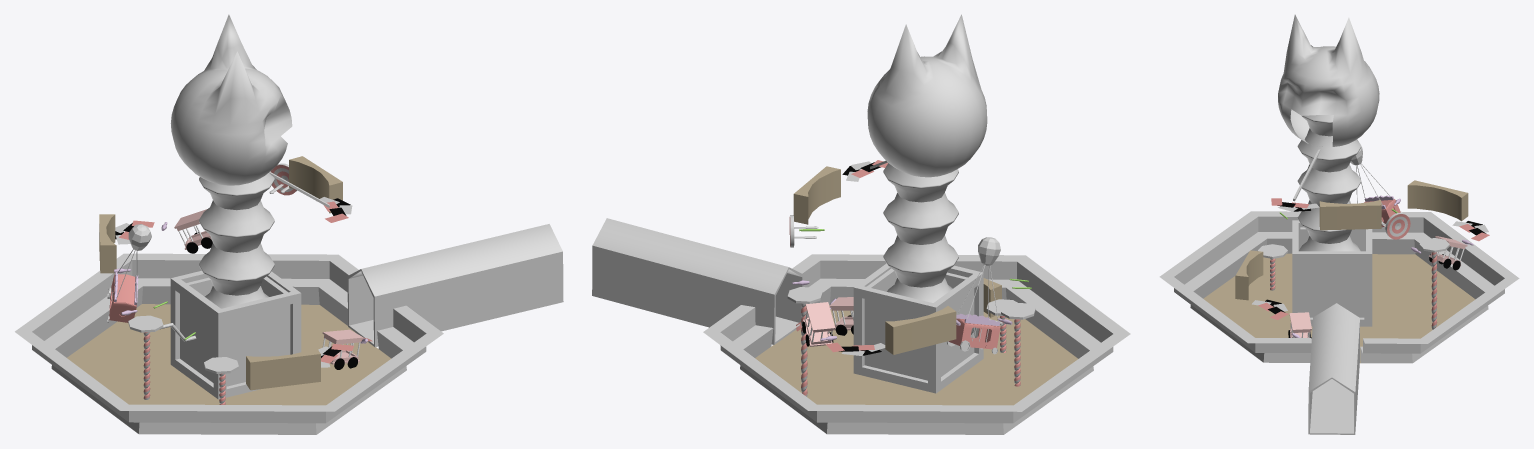
Rendered from Tutorial_New1.fbx.
3 renders of one model, left to right at view 1: azimuth 30°, elevation 25°; view 2: azimuth 150°, elevation 25°; view 3: azimuth 270°, elevation 25°, orthographic. The views are drawn at different scales.
Parts seen in each view (by area): view 1: pTorus3, pTorus4, pasted__pSphere22, pasted__pCube25, pasted__pCylinder20, pCube174, pCube179, pasted__pasted__pCube158, pCube176, pasted__jaula, pasted__jaula__1_; view 2: pTorus3, pTorus4, pasted__pSphere22, pasted__pCube25, pasted__pCylinder20, pCube176, pCube179, pasted__jaula__1_, pasted__pasted__pCube158, pasted__jaula, pasted__pSphere12, pHelix10; view 3: pTorus3, pasted__pSphere22, pTorus4, pasted__pCube25, pasted__pCylinder20, pCube179, pCube176, pCube174, pasted__jaula__1_, pCylinder91, pasted__jaula, pHelix10 (+1 smaller).
Boxes of the visible parts, bbox=[...] form: pTorus3: bbox=[15, 253, 443, 434]; pTorus4: bbox=[347, 224, 563, 347]; pasted__pSphere22: bbox=[170, 14, 292, 185]; pasted__pCube25: bbox=[170, 270, 301, 399]; pasted__pCylinder20: bbox=[199, 171, 274, 308]; pCube174: bbox=[246, 347, 320, 390]; pCube179: bbox=[289, 156, 342, 213]; pasted__pasted__pCube158: bbox=[109, 274, 136, 322]; pCube176: bbox=[99, 214, 116, 273]; pasted__jaula: bbox=[322, 329, 363, 369]; pasted__jaula__1_: bbox=[174, 209, 212, 253]; pTorus3: bbox=[703, 254, 1130, 434]; pTorus4: bbox=[592, 218, 803, 344]; pasted__pSphere22: bbox=[867, 14, 987, 177]; pasted__pCube25: bbox=[853, 263, 983, 393]; pasted__pCylinder20: bbox=[883, 163, 958, 302]; pCube176: bbox=[885, 306, 956, 354]; pCube179: bbox=[793, 166, 840, 224]; pasted__jaula__1_: bbox=[802, 302, 835, 346]; pasted__pasted__pCube158: bbox=[948, 318, 1000, 349]; pasted__jaula: bbox=[829, 297, 853, 335]; pasted__pSphere12: bbox=[978, 237, 1000, 265]; pHelix10: bbox=[801, 303, 807, 396]; pTorus3: bbox=[1159, 211, 1519, 363]; pasted__pSphere22: bbox=[1278, 14, 1379, 146]; pTorus4: bbox=[1308, 303, 1359, 434]; pasted__pCube25: bbox=[1292, 220, 1372, 326]; pasted__pCylinder20: bbox=[1297, 115, 1361, 251]; pCube179: bbox=[1319, 199, 1381, 230]; pCube176: bbox=[1407, 180, 1468, 221]; pCube174: bbox=[1235, 250, 1263, 300]; pasted__jaula__1_: bbox=[1429, 236, 1467, 270]; pCylinder91: bbox=[1385, 212, 1410, 239]; pasted__jaula: bbox=[1288, 312, 1311, 338]; pHelix10: bbox=[1431, 252, 1437, 329].
Bounding box in the file's own units: 48643 × 36252 × 37799.
